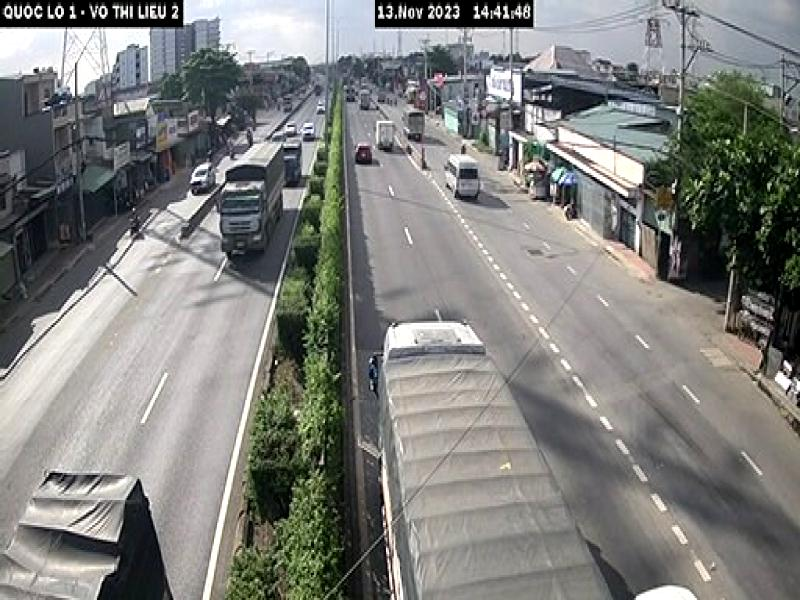truck: (215, 140, 285, 258)
